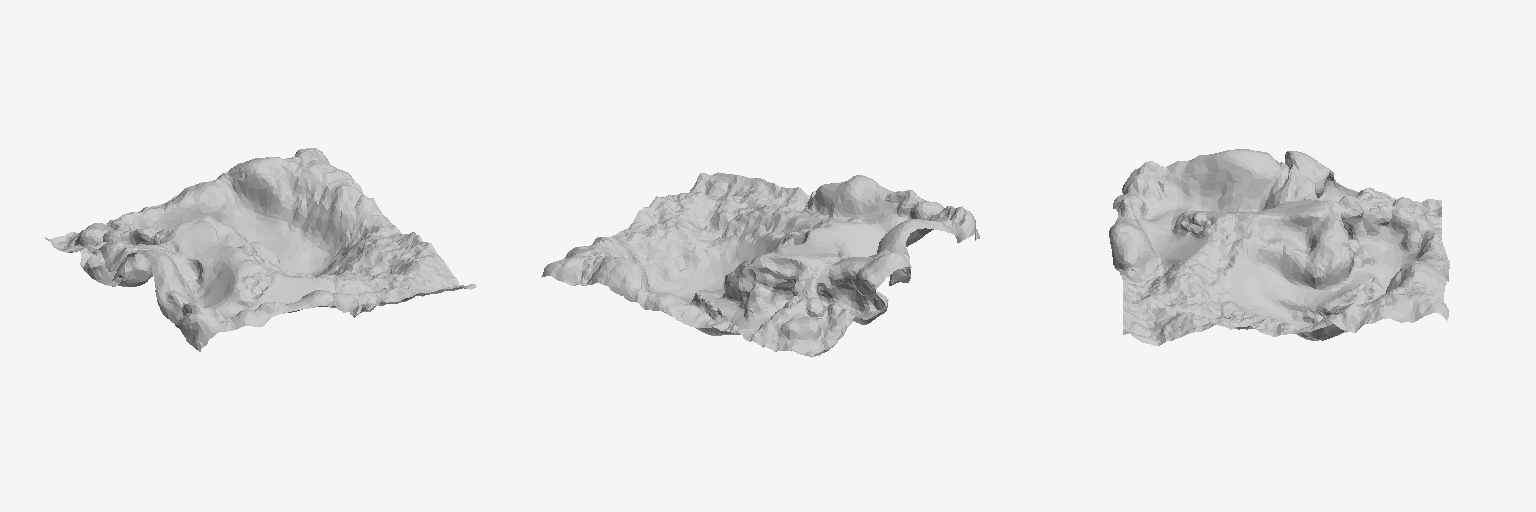
File: moutain2.obj
3 views of the same model, side by side, from view 1: azimuth 30°, elevation 25°; view 2: azimuth 150°, elevation 25°; view 3: azimuth 270°, elevation 25° (orthographic).
Visible parts, largest first — view 1: Landscape.006; view 2: Landscape.006; view 3: Landscape.006.
Part boxes in pixels (bbox=[...]): Landscape.006: bbox=[45, 148, 476, 351]; Landscape.006: bbox=[541, 172, 979, 357]; Landscape.006: bbox=[1109, 149, 1449, 345].
Size of the model in its own units: 21.33 by 6.53 by 21.51.